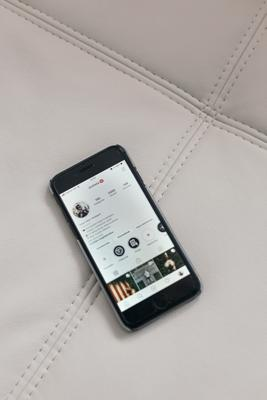Mobile Phone: (47, 142, 202, 332)
